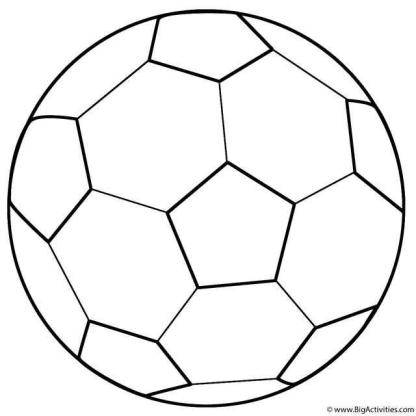ball: (7, 8, 405, 407)
